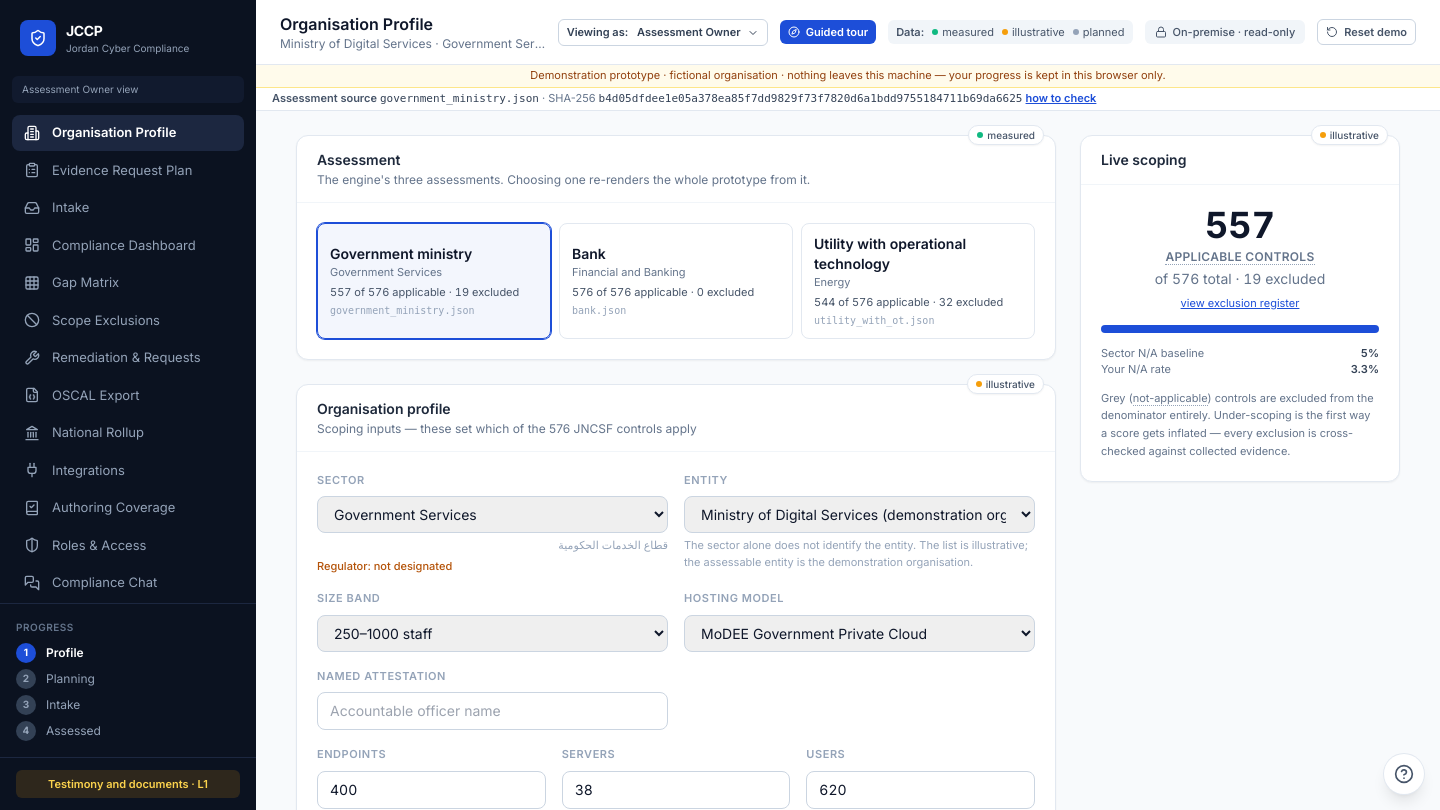
Test case: choosing an assessment on the Profile screen changes the whole app › selecting bank moves the source stamp, the applicable count, the register and the interval
The image size is (1440, 810).
Check: the text with test id "source-file" reads "government_ministry.json", box [380,92,539,105]
Click the radio button that starts with "Bank". click: {"x": 676, "y": 280}
box: [559,222,793,338]
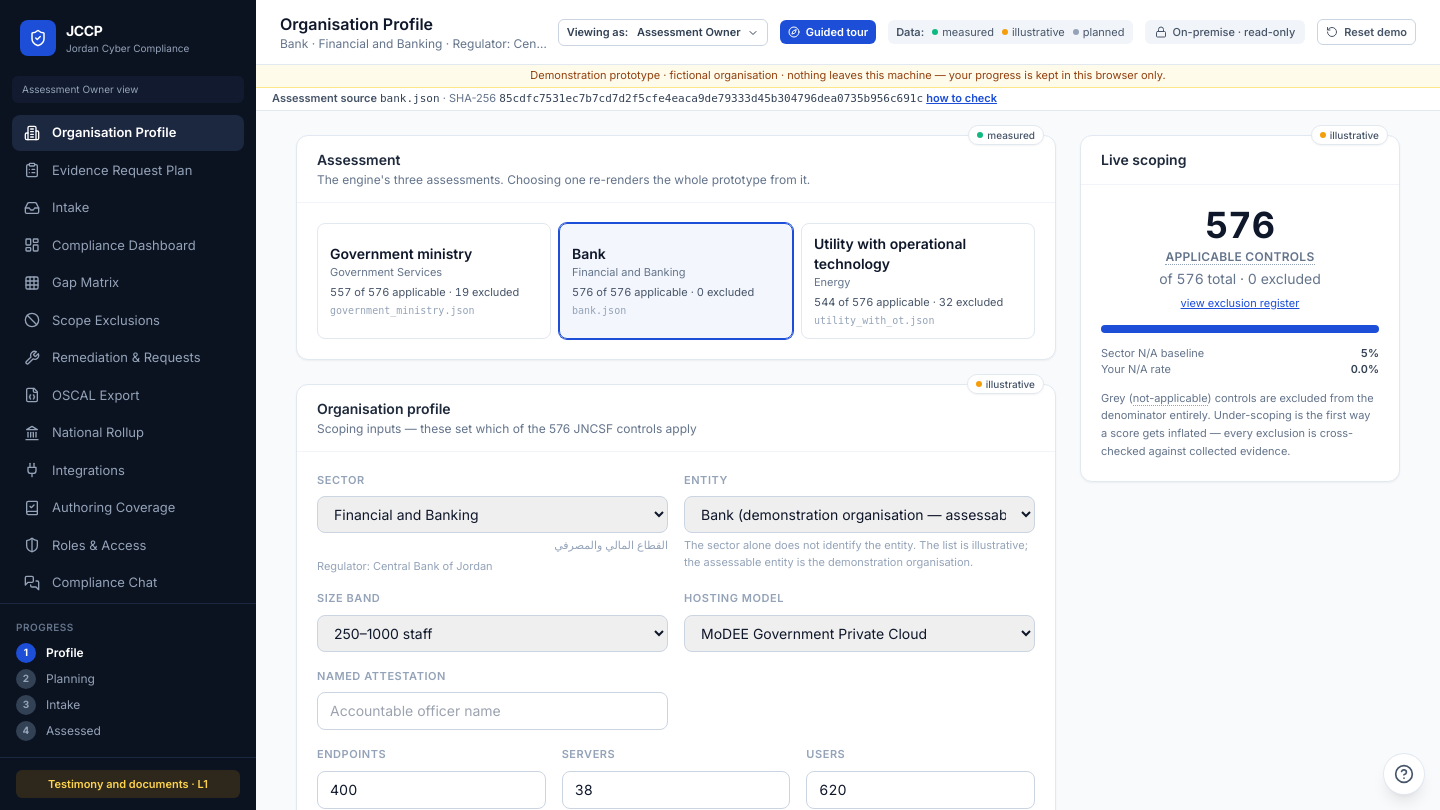
Check: the text with test id "source-file" reads "bank.json", box [380,92,440,105]
Check: the text with test id "source-sha256" reads "85cdfc7531ec7b7cd7d2f5cfe4eaca9de79333d45b304796dea0735b956c691c", box [499,92,923,105]
Check: the text with test id "source-sha256" no longer shows "b4d05dfdee1e05a378ea85f7dd9829f73f7820d6a1bdd9755184711b69da6625"
